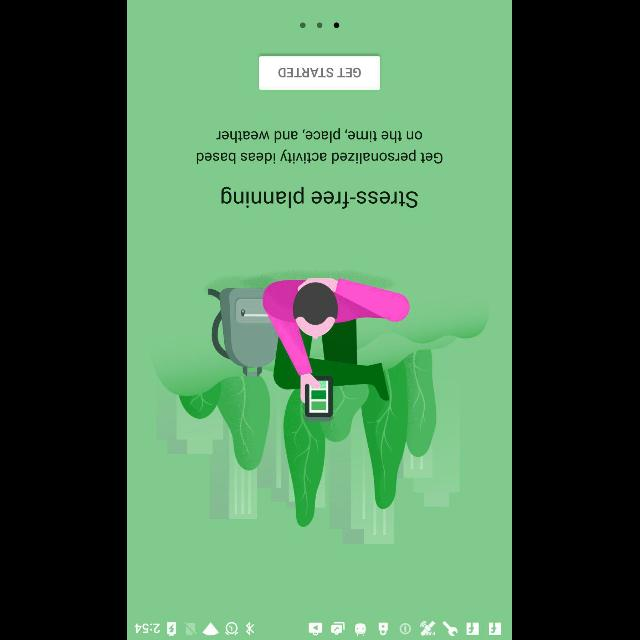image: (154, 270, 490, 544)
pageindicator: (300, 22, 340, 28)
text: (197, 128, 443, 164), (222, 187, 420, 210)
textbutton: (260, 56, 380, 90)
uppertaskbar: (128, 617, 512, 639)
